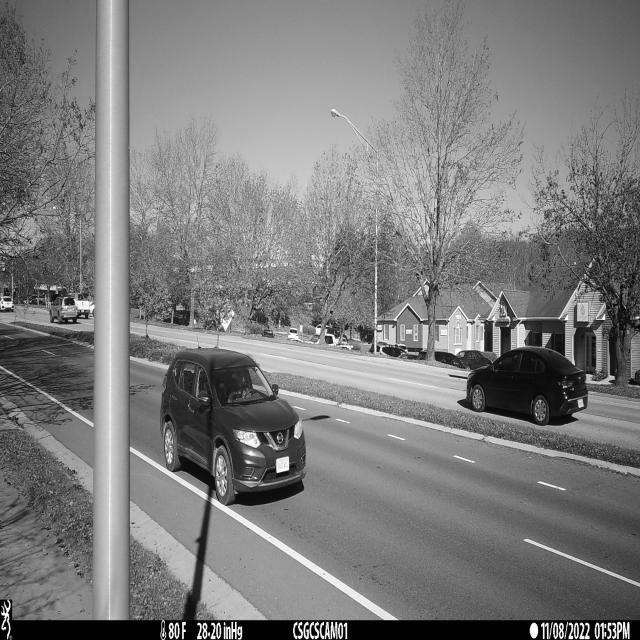SUV: (160, 347, 307, 507)
